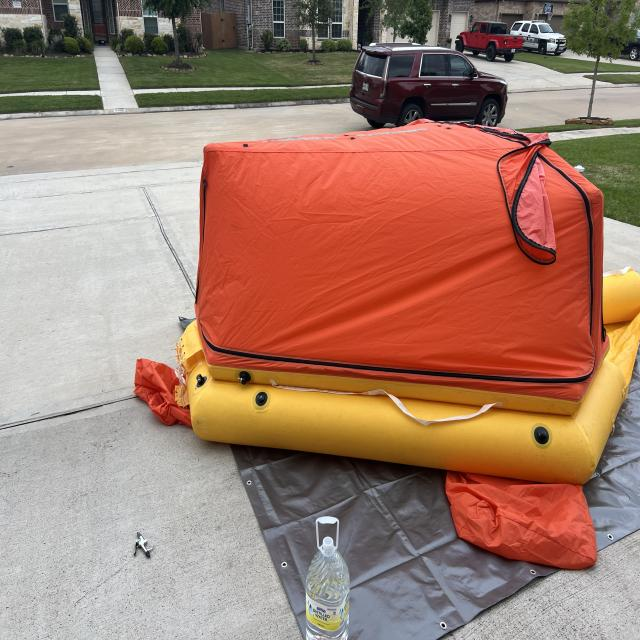Multi-person_life_raft: (134, 118, 639, 571)
